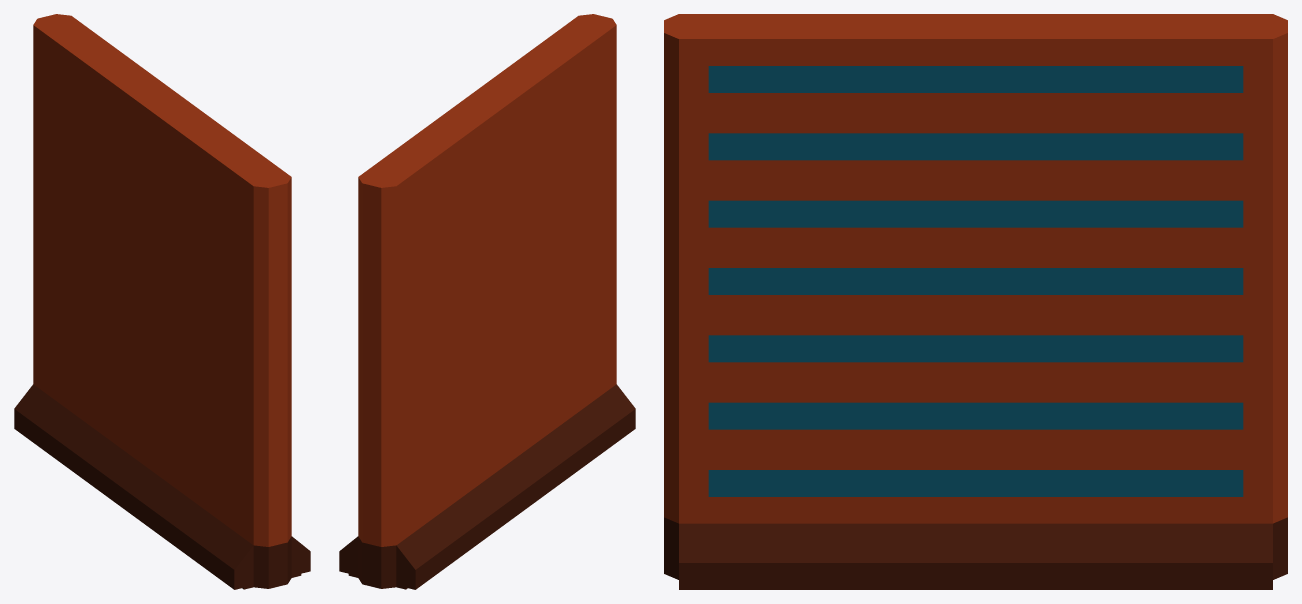
The model's file is Wall_8_1.fbx.
3 renders of one model, left to right at view 1: azimuth 30°, elevation 25°; view 2: azimuth 150°, elevation 25°; view 3: azimuth 270°, elevation 25°, orthographic. The views are drawn at different scales.
Visible parts, largest first — view 1: Wall/8_1; view 2: Wall/8_1; view 3: Wall/8_1.
Boxes of the visible parts, x1,y1,x2,y2 form: Wall/8_1: (14,14,310,589); Wall/8_1: (339,14,635,589); Wall/8_1: (664,14,1287,589).
Size of the model in its own units: 0.4 by 2.1 by 2.01.
